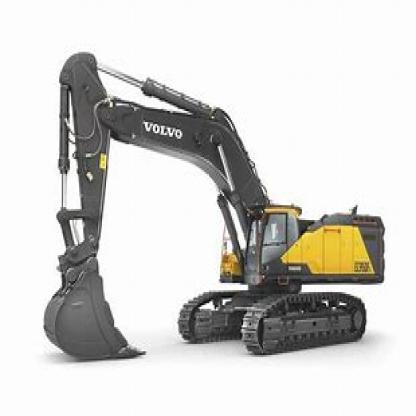excavator: (39, 50, 386, 366)
